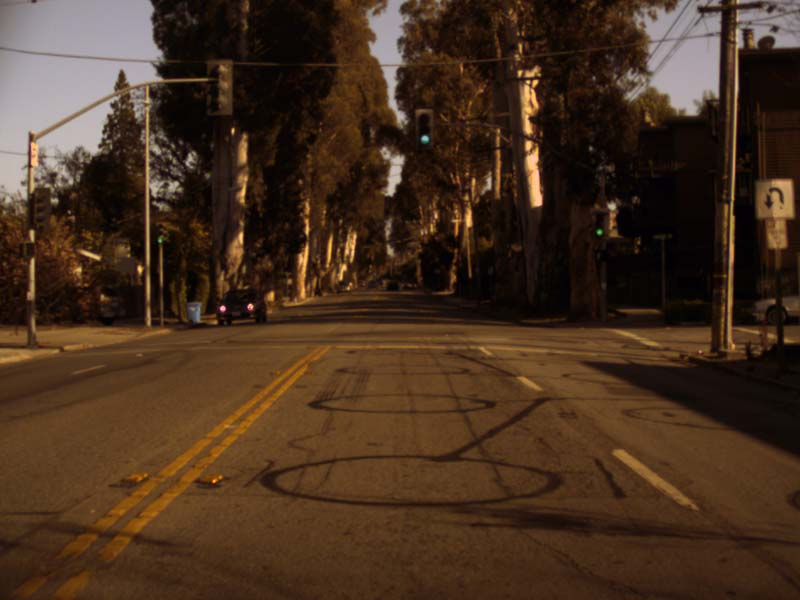Green: (416, 108, 433, 148)
